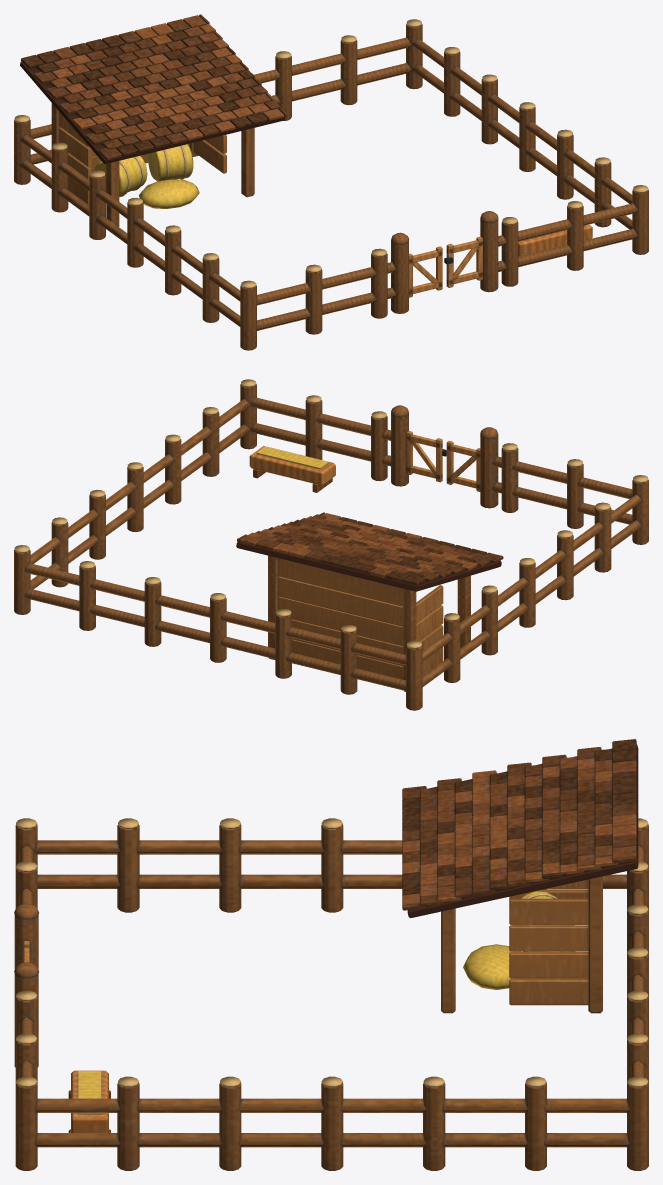
The model's file is mule_paddock.glb.
3 renders of one model, top to bottom at view 1: azimuth 30°, elevation 25°; view 2: azimuth 150°, elevation 25°; view 3: azimuth 270°, elevation 25°, orthographic. The views are drawn at different scales.
Visible parts, largest first — view 1: mule_paddock, gate1, gate0; view 2: mule_paddock, gate1, gate0; view 3: mule_paddock.
Part boxes in pixels (left/top/right/bottom): mule_paddock: left=14, top=14, right=648, bottom=350; gate1: left=444, top=236, right=482, bottom=287; gate0: left=409, top=246, right=442, bottom=297; mule_paddock: left=14, top=379, right=648, bottom=710; gate1: left=406, top=431, right=446, bottom=482; gate0: left=446, top=440, right=480, bottom=491; mule_paddock: left=14, top=739, right=648, bottom=1170.
Bounding box in the file's own units: 3 × 0.9345 × 3.01.
Materials: 1 (1 with a texture image).
